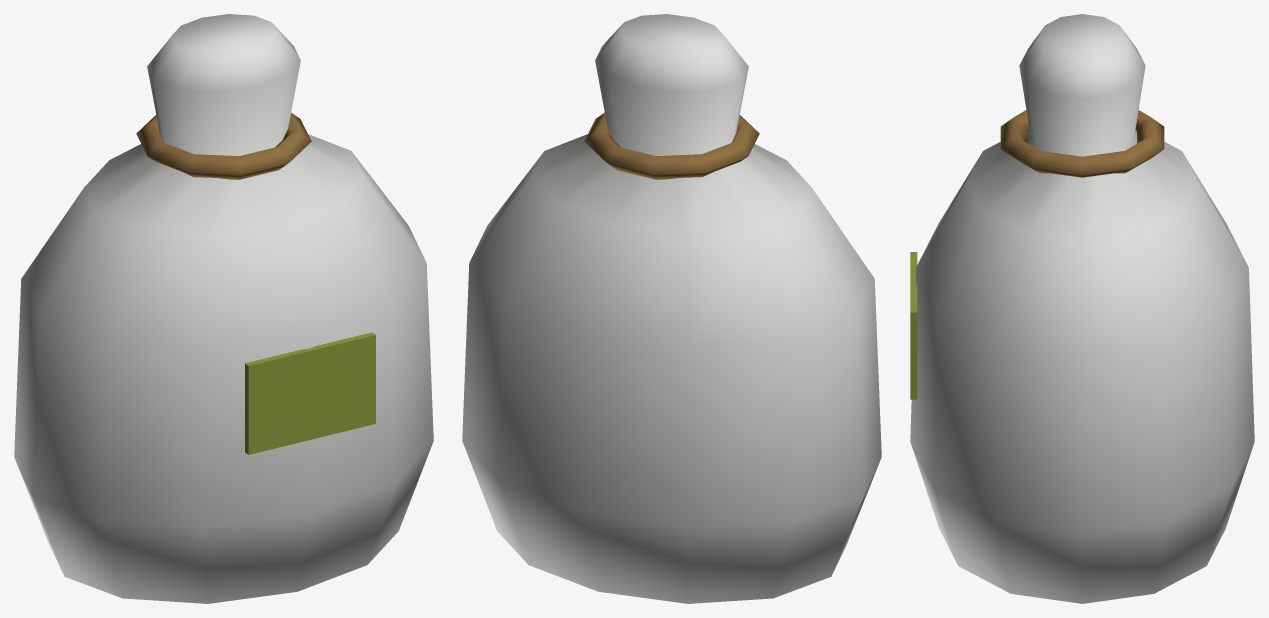
The model's file is Proc_Sugar.fbx.
3 renders of one model, left to right at view 1: azimuth 30°, elevation 25°; view 2: azimuth 150°, elevation 25°; view 3: azimuth 270°, elevation 25°, orthographic. The views are drawn at different scales.
Visible parts, largest first — view 1: Proc_Sugar__Stack; view 2: Proc_Sugar__Stack; view 3: Proc_Sugar__Stack.
Part boxes in pixels (bbox=[...]): Proc_Sugar__Stack: bbox=[14, 14, 433, 603]; Proc_Sugar__Stack: bbox=[462, 14, 881, 603]; Proc_Sugar__Stack: bbox=[910, 14, 1254, 603].
Size of the model in its own units: 0.216 by 0.272 by 0.1728.
